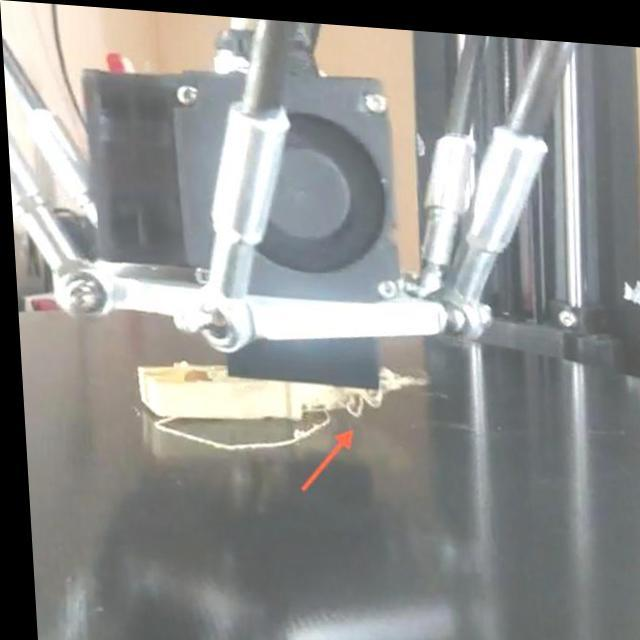spaghetti: (336, 356, 424, 418)
